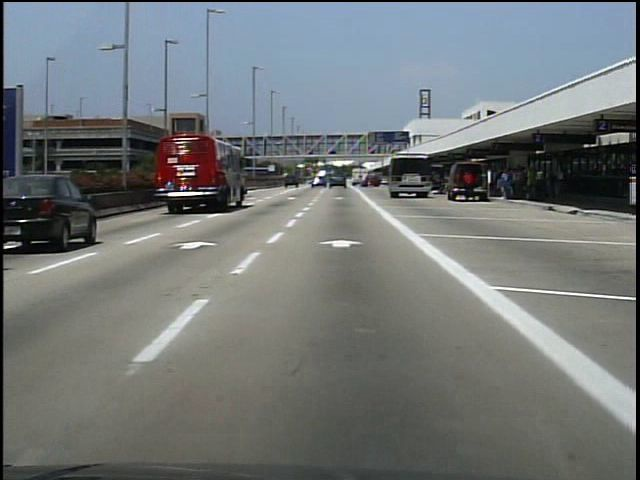person: (463, 165, 479, 204)
